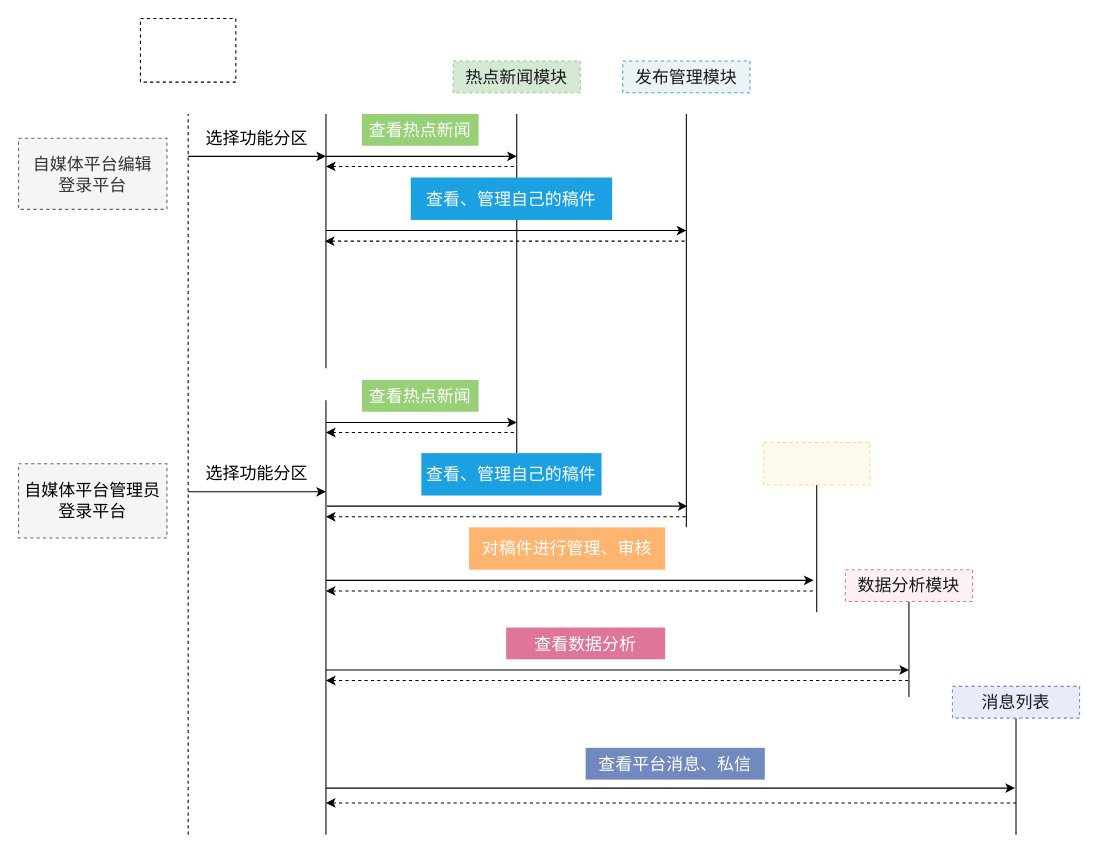
Image size: 1098x854. Some labels were removed from this diagram. The centre of each missing label's shape, as x and y in pixels:
发稿情况: point (816, 463)
用户登录: point (187, 49)
